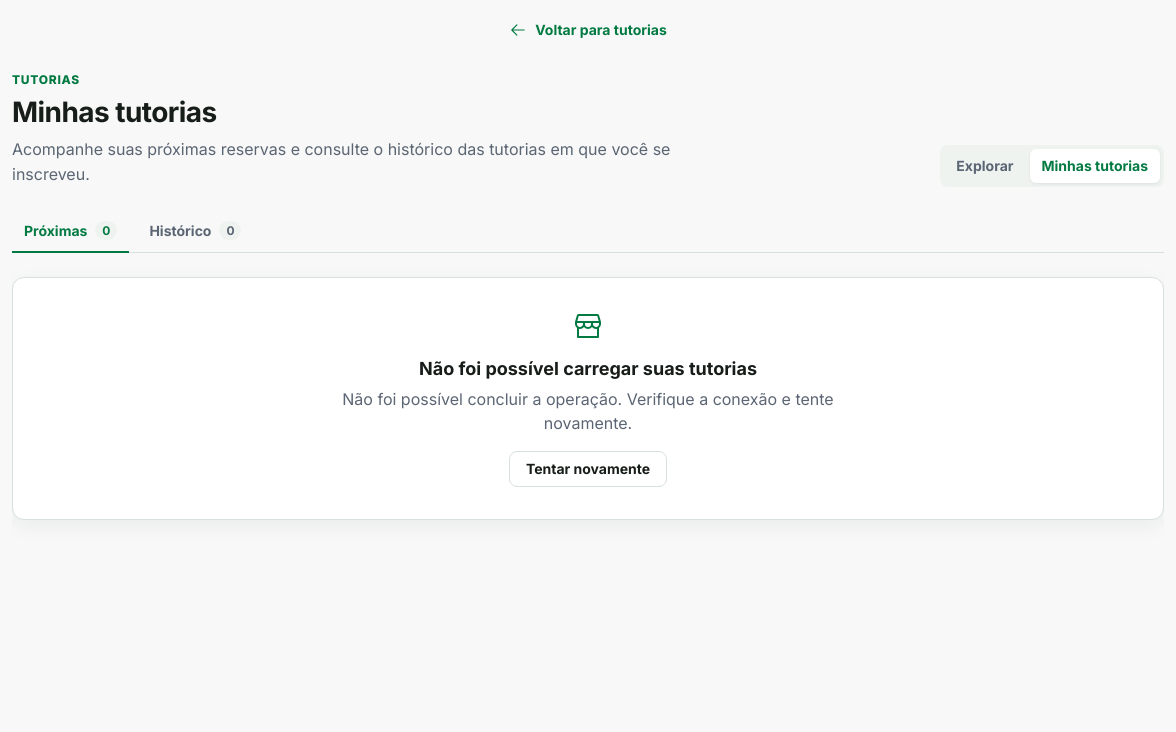
Test: marketplace conectado à API › não confunde falha de consulta com histórico vazio
This screenshot has width=1176, height=732.
Expected: the message is shown, [12,277,1164,520]
Expected: the text "Nenhuma tutoria agendada" is not shown
Click the button "Tentar novamente". click: (588, 469)
box: [509,451,667,487]
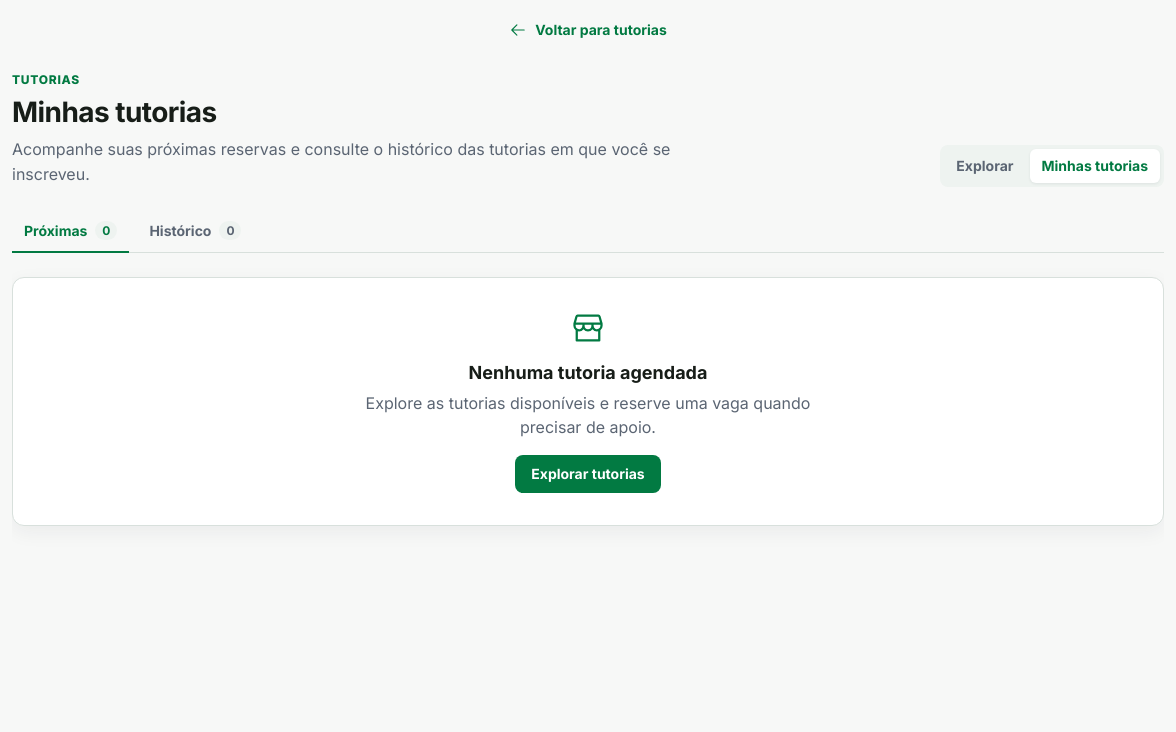
Now the heading "Nenhuma tutoria agendada" is shown, box [469,362,707,383]
